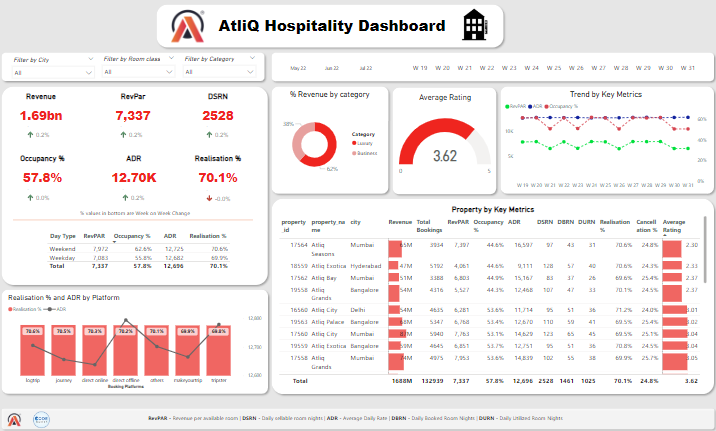

The dashboard page shown, as its layout file describes it:
{"tool":"powerbi","page":{"name":"Home","canvas":[1800,1100],"ordinal":0},"visuals":[{"type":"shape","box":[0.2,123.6,675.2,88.8],"z":0},{"type":"shape","box":[676,122.7,1124,89.3],"z":1000},{"type":"shape","box":[675.7,208.6,310,285.7],"z":2000},{"type":"shape","box":[1248.6,208.6,551.4,285.7],"z":3000},{"type":"shape","box":[676,488,1124,506.7],"z":4000},{"type":"shape","box":[0.2,207,683.4,513.9],"z":5000},{"type":"slicer","fields":{"Values":["dim_rooms.room_class"]},"box":[250.7,133.3,202.7,72],"z":6000},{"type":"slicer","fields":{"Values":["dim_hotels.city"]},"box":[24,134.7,226.7,76],"z":7000},{"type":"slicer","fields":{"Values":["dim_date.mmm yy"]},"box":[683.6,145.5,302.1,47.8],"z":8000},{"type":"card","title":"Revenue","fields":{"Values":["key_measures.Revenue"]},"box":[30.7,230.7,154.7,95.8],"z":8000,"group":"g2"},{"type":"card","title":"RevPar","fields":{"Values":["key_measures.Rev Par"]},"box":[257.9,230.7,160.2,95.8],"z":9000,"group":"g2"},{"type":"card","title":"Occupancy %","fields":{"Values":["key_measures.Occupancy %"]},"box":[14.7,386.3,192,96],"z":9000,"group":"g1"},{"type":"tableEx","title":"Property by Key Metrics","fields":{"Values":["dim_hotels.property_id","dim_hotels.property_name","dim_hotels.city","key_measures.Revenue","key_measures.Total Bookings","key_measures.Rev Par","key_measures.Occupancy %","key_measures.ADR","key_measures.DSRN","key_measures.DBRN","key_measures.DURN","key_measures.Realisation %"]},"box":[698.3,513.3,1080,458.3],"z":9000},{"type":"lineChart","title":"Trend by Key Metrics","fields":{"Category":["dim_date.mmm yy.Variation.Date Hierarchy.Month","dim_date.week no"],"Y2":["key_measures.Occupancy %"],"Y":["key_measures.Rev Par","key_measures.ADR"]},"box":[1261.4,225.7,514.3,257.1],"z":10000},{"type":"card","title":"DSRN","fields":{"Values":["key_measures.DSRN"]},"box":[456.5,231.1,189.3,96],"z":11000,"group":"g2"},{"type":"tableEx","fields":{"Values":["dim_date.day type","key_measures.Rev Par","key_measures.Occupancy %","key_measures.ADR","key_measures.Realisation %"]},"box":[117.1,574.3,468.6,130],"z":11000},{"type":"card","title":"ADR","fields":{"Values":["key_measures.ADR"]},"box":[241.4,385.9,193.3,96],"z":12000,"group":"g1"},{"type":"shape","box":[0,716,684,278.7],"z":12000},{"type":"card","title":"Realisation %","fields":{"Values":["key_measures.Realisation %"]},"box":[452.5,386.8,194.7,96],"z":13000,"group":"g1"},{"type":"lineStackedColumnComboChart","title":"Realisation % and ADR by Platform","fields":{"Category":["fact_bookings.booking_platform"],"Y":["key_measures.Realisation %"],"Y2":["key_measures.ADR"]},"box":[20,732.9,644.3,245.7],"z":13000},{"type":"slicer","fields":{"Values":["dim_date.week no"]},"box":[1002.7,145.3,773.3,48],"z":14000},{"type":"shape","box":[0,1013.3,1800,69.3],"z":15000},{"type":"group","id":"g1","title":"Group 1","box":[14.7,385.9,632.4,96.9],"z":16000},{"type":"image","box":[62,1022,92,54],"z":17000},{"type":"image","box":[0,1028,81.3,42.7],"z":18000},{"type":"slicer","fields":{"Values":["dim_hotels.category"]},"box":[452.9,132.9,202.9,72.9],"z":19000},{"type":"group","id":"g2","title":"Group 2","box":[30.7,230.7,615.1,96.4],"z":20000},{"type":"tableEx","fields":{"Values":["key_measures.Revpar WoW change %"]},"box":[296,297.3,92,58.7],"z":21000},{"type":"textbox","box":[345,1029.6,1093.6,39],"z":22000},{"type":"shape","box":[38.7,542.7,600,14.7],"z":23000},{"type":"tableEx","fields":{"Values":["key_measures.Revpar WoW change %"]},"box":[61.3,297.3,92,58.7],"z":24000},{"type":"tableEx","fields":{"Values":["key_measures.Revpar WoW change %"]},"box":[509.3,297.3,92,58.7],"z":25000},{"type":"donutChart","title":"% Revenue by category","fields":{"Category":["dim_hotels.category"],"Y":["key_measures.Revenue"]},"box":[693.3,225,273.3,250],"z":26000},{"type":"group","id":"g3","title":"Group 3","box":[61.3,454.3,540,60],"z":27000},{"type":"tableEx","fields":{"Values":["key_measures.Occupancy WoW change %"]},"box":[61.3,454.3,92,58.7],"z":27000,"group":"g3"},{"type":"tableEx","fields":{"Values":["key_measures.ADR WoW change %"]},"box":[298.6,454.3,92,58.7],"z":28000,"group":"g3"},{"type":"textbox","box":[200,517.3,308,33.3],"z":28000},{"type":"shape","box":[386.7,1.7,885,125],"z":28500},{"type":"shape","box":[978.2,210,277.3,284.5],"z":29000},{"type":"tableEx","fields":{"Values":["key_measures.Realisation WoW change %"]},"box":[509.3,455.6,92,58.7],"z":29000,"group":"g3"},{"type":"gauge","fields":{"Y":["key_measures.Average Rating"]},"box":[997.1,231.4,240,250],"z":31000},{"type":"image","box":[426.7,15,95,98.3],"z":32000},{"type":"textbox","box":[530,32,610,64],"z":33000},{"type":"image","box":[1140,15,105,96.7],"z":34000}]}

Visuals, with their boxes in screenshot pixels (x1, y1, x2, y2), scaled from the page's 1800x1100 canvas onto the 716x431 screenshot:
shape: {"left": 0, "top": 48, "right": 269, "bottom": 83}
shape: {"left": 269, "top": 48, "right": 715, "bottom": 83}
shape: {"left": 269, "top": 82, "right": 392, "bottom": 194}
shape: {"left": 497, "top": 82, "right": 715, "bottom": 194}
shape: {"left": 269, "top": 191, "right": 715, "bottom": 390}
shape: {"left": 0, "top": 81, "right": 272, "bottom": 282}
slicer - dim_rooms.room_class: {"left": 100, "top": 52, "right": 180, "bottom": 80}
slicer - dim_hotels.city: {"left": 10, "top": 53, "right": 100, "bottom": 83}
slicer - dim_date.mmm yy: {"left": 272, "top": 57, "right": 392, "bottom": 76}
"Revenue" card: {"left": 12, "top": 90, "right": 74, "bottom": 128}
"RevPar" card: {"left": 103, "top": 90, "right": 166, "bottom": 128}
"Occupancy %" card: {"left": 6, "top": 151, "right": 82, "bottom": 189}
"Property by Key Metrics" tableEx: {"left": 278, "top": 201, "right": 707, "bottom": 381}
"Trend by Key Metrics" lineChart: {"left": 502, "top": 88, "right": 706, "bottom": 189}
"DSRN" card: {"left": 182, "top": 91, "right": 257, "bottom": 128}
tableEx - dim_date.day type x key_measures.Rev Par: {"left": 47, "top": 225, "right": 233, "bottom": 276}
"ADR" card: {"left": 96, "top": 151, "right": 173, "bottom": 189}
shape: {"left": 0, "top": 281, "right": 272, "bottom": 390}
"Realisation %" card: {"left": 180, "top": 152, "right": 257, "bottom": 189}
"Realisation % and ADR by Platform" lineStackedColumnComboChart: {"left": 8, "top": 287, "right": 264, "bottom": 383}
slicer - dim_date.week no: {"left": 399, "top": 57, "right": 706, "bottom": 76}
shape: {"left": 0, "top": 397, "right": 715, "bottom": 424}
"Group 1" group: {"left": 6, "top": 151, "right": 257, "bottom": 189}
image: {"left": 25, "top": 400, "right": 61, "bottom": 422}
image: {"left": 0, "top": 403, "right": 32, "bottom": 420}
slicer - dim_hotels.category: {"left": 180, "top": 52, "right": 261, "bottom": 81}
"Group 2" group: {"left": 12, "top": 90, "right": 257, "bottom": 128}
tableEx - key_measures.Revpar WoW change %: {"left": 118, "top": 116, "right": 154, "bottom": 139}
textbox: {"left": 137, "top": 403, "right": 572, "bottom": 419}
shape: {"left": 15, "top": 213, "right": 254, "bottom": 218}
tableEx - key_measures.Revpar WoW change %: {"left": 24, "top": 116, "right": 61, "bottom": 139}
tableEx - key_measures.Revpar WoW change %: {"left": 203, "top": 116, "right": 239, "bottom": 139}
"% Revenue by category" donutChart: {"left": 276, "top": 88, "right": 384, "bottom": 186}
"Group 3" group: {"left": 24, "top": 178, "right": 239, "bottom": 202}
tableEx - key_measures.Occupancy WoW change %: {"left": 24, "top": 178, "right": 61, "bottom": 201}
tableEx - key_measures.ADR WoW change %: {"left": 119, "top": 178, "right": 155, "bottom": 201}
textbox: {"left": 80, "top": 203, "right": 202, "bottom": 216}
shape: {"left": 154, "top": 1, "right": 506, "bottom": 50}
shape: {"left": 389, "top": 82, "right": 499, "bottom": 194}
tableEx - key_measures.Realisation WoW change %: {"left": 203, "top": 179, "right": 239, "bottom": 202}
gauge - key_measures.Average Rating: {"left": 397, "top": 91, "right": 492, "bottom": 189}
image: {"left": 170, "top": 6, "right": 208, "bottom": 44}
textbox: {"left": 211, "top": 13, "right": 453, "bottom": 38}
image: {"left": 453, "top": 6, "right": 495, "bottom": 44}
